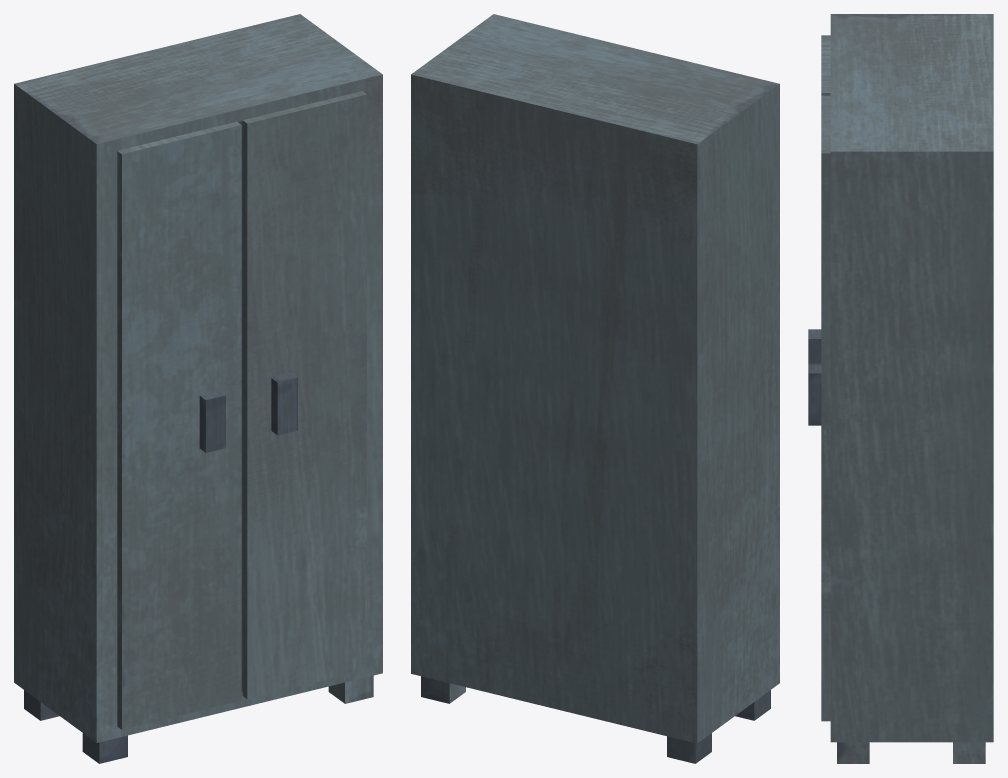
The model's file is cabinet.glb.
3 renders of one model, left to right at view 1: azimuth 30°, elevation 25°; view 2: azimuth 150°, elevation 25°; view 3: azimuth 270°, elevation 25°, orthographic.
Parts seen in each view (by area): view 1: warpedcabinet-col; view 2: warpedcabinet-col; view 3: warpedcabinet-col.
Boxes of the visible parts, bbox=[...] form: warpedcabinet-col: bbox=[14, 14, 382, 763]; warpedcabinet-col: bbox=[411, 14, 779, 763]; warpedcabinet-col: bbox=[808, 14, 993, 763].
Bounding box in the file's own units: 1 × 2.08 × 0.5678.
Materials: 1 (1 with a texture image).
